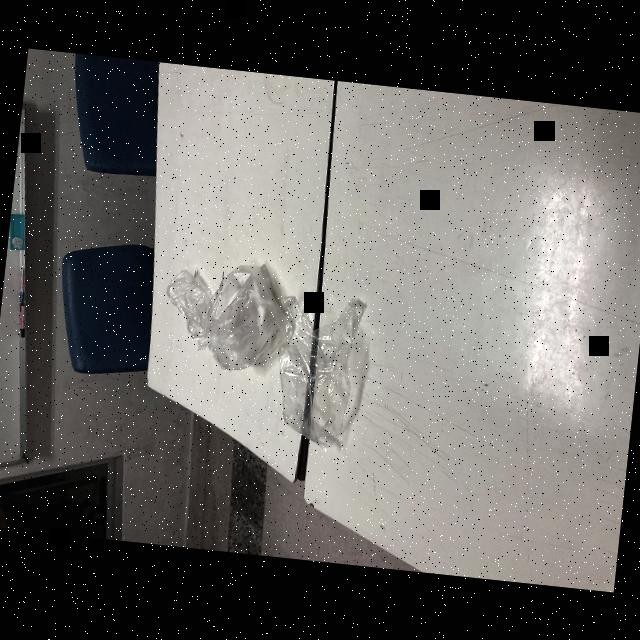plastic_bag: (270, 284, 376, 460), (204, 264, 294, 392), (148, 258, 218, 346)
